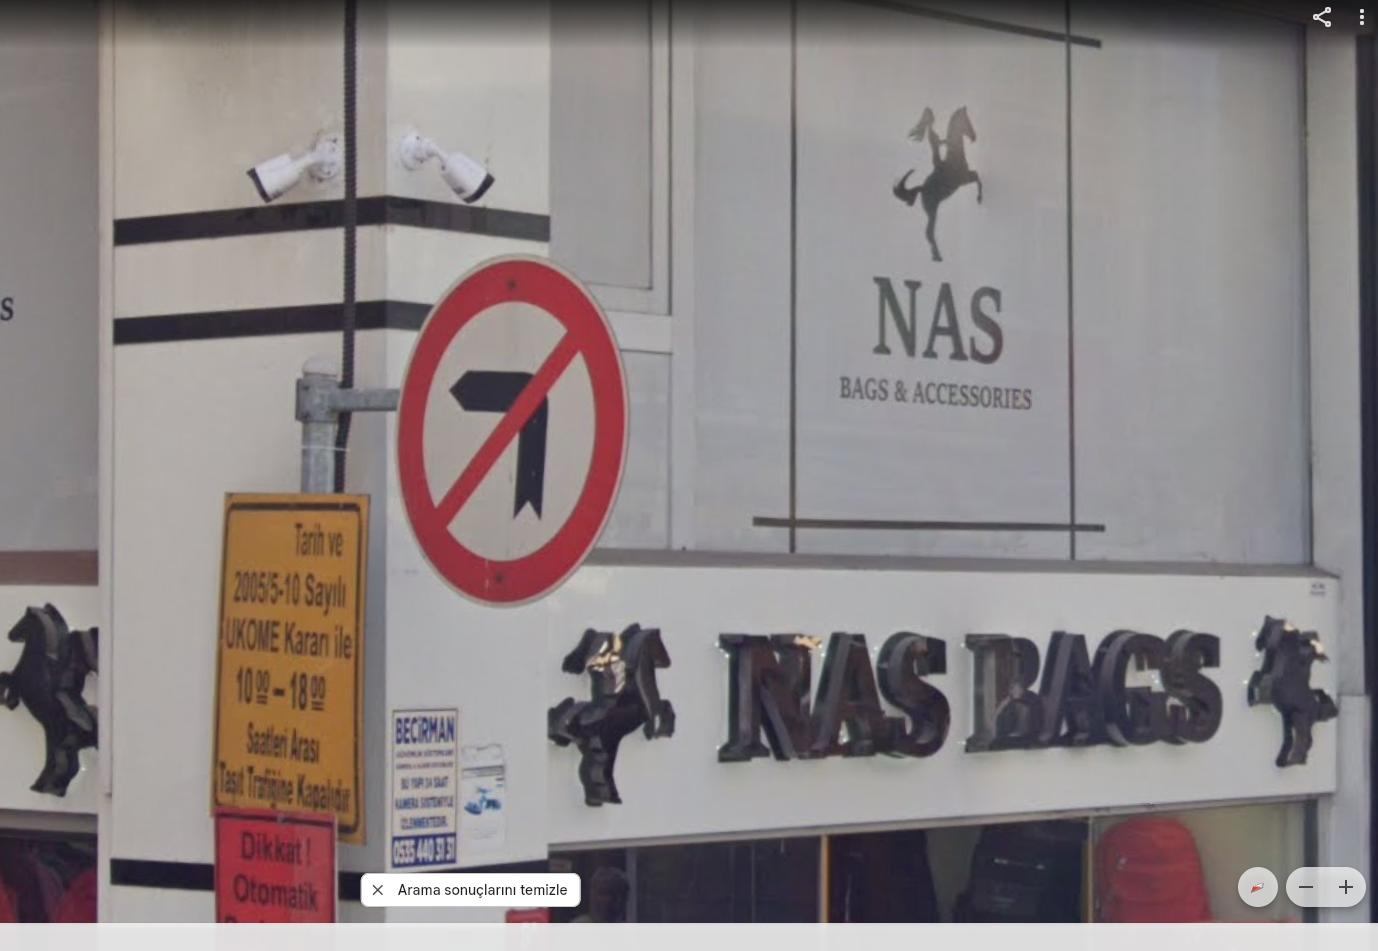leftturnsareforbidden: (399, 250, 636, 606)
